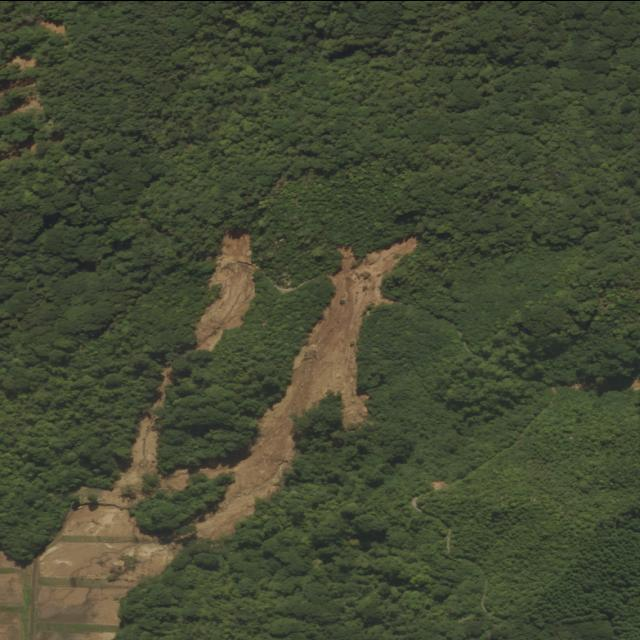landslide: (195, 237, 416, 538), (0, 414, 180, 640), (196, 233, 255, 348), (161, 469, 188, 489)
